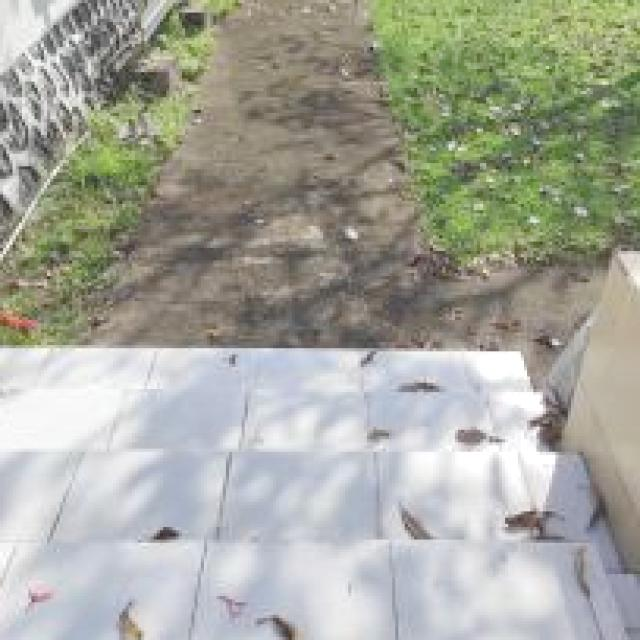downstair: (1, 339, 603, 587)
